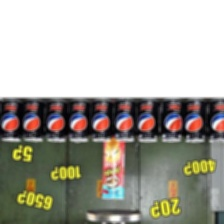can: (98, 137, 126, 203), (156, 92, 183, 144), (19, 97, 46, 144), (43, 97, 68, 147), (111, 94, 136, 144), (135, 93, 159, 145), (68, 96, 91, 146), (184, 93, 206, 143), (89, 98, 113, 143), (0, 97, 21, 142), (206, 97, 223, 144)
